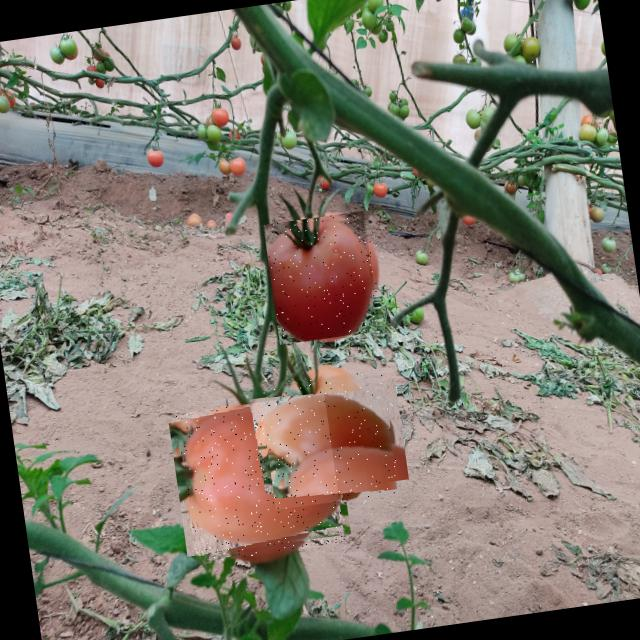Ripe Tomato: (176, 394, 346, 564), (258, 369, 401, 510), (264, 210, 384, 344)
